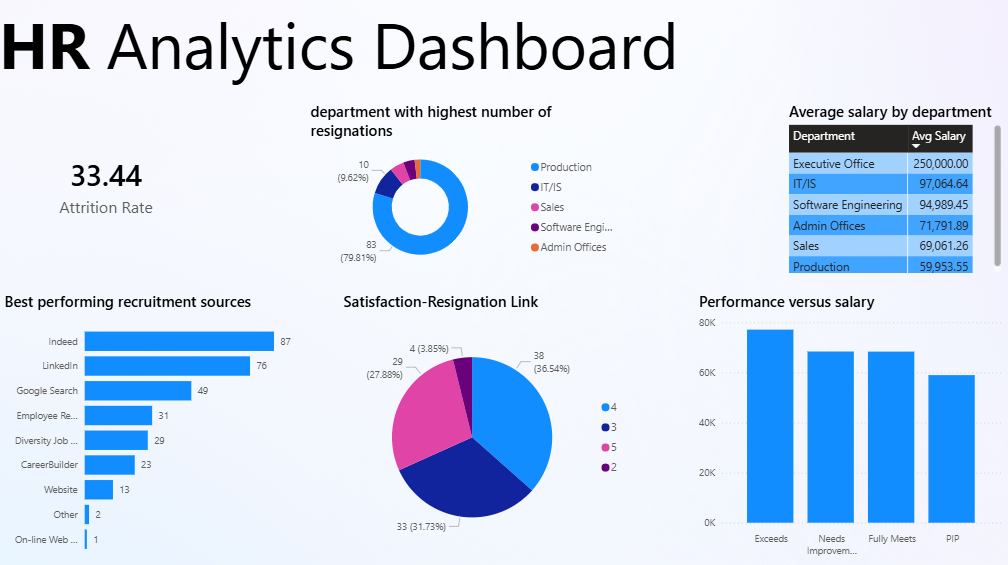

What the dashboard file says about the page in this screenshot:
{"tool":"powerbi","page":{"name":"HR Analytics Dashboard","canvas":[1280,720],"ordinal":4},"visuals":[{"type":"card","fields":{"Values":["HRDataCleaned.Attrition Rate"]},"box":[0,119.1,279.7,236.2],"z":0},{"type":"donutChart","title":"department with highest number of resignations","fields":{"Category":["HRDataCleaned.Department"],"Y":["HRDataCleaned.Terminated Employees"]},"box":[385.5,119.1,419.5,236.2],"z":1},{"type":"pivotTable","title":"Average salary by department","fields":{"Rows":["HRDataCleaned.Department"],"Values":["HRDataCleaned.Avg Salary"]},"box":[988.4,119.1,291,240],"z":2},{"type":"clusteredBarChart","title":"Best performing recruitment sources","fields":{"Category":["HRDataCleaned.RecruitmentSource"],"Y":["CountNonNull(HRDataCleaned.PerformanceScore)"]},"box":[0,359.1,385.5,360.9],"z":3},{"type":"pieChart","title":"Satisfaction-Resignation Link","fields":{"Category":["HRDataCleaned.EmpSatisfaction"],"Y":["HRDataCleaned.Terminated Employees"]},"box":[427.1,359.1,378,360.9],"z":4},{"type":"columnChart","title":"Performance versus salary","fields":{"Y":["HRDataCleaned.Avg Salary"],"Category":["HRDataCleaned.PerformanceScore"]},"box":[875,359.1,404.4,360.9],"z":5},{"type":"textbox","box":[0,0,876.9,119.1],"z":6}]}

Visuals, with their boxes in screenshot pixels (x1, y1, x2, y2), scaled from the page's 1280x720 canvas onto the 1008x565 screenshot:
card - HRDataCleaned.Attrition Rate: box=[0, 93, 220, 279]
"department with highest number of resignations" donutChart: box=[304, 93, 634, 279]
"Average salary by department" pivotTable: box=[778, 93, 1007, 282]
"Best performing recruitment sources" clusteredBarChart: box=[0, 282, 304, 564]
"Satisfaction-Resignation Link" pieChart: box=[336, 282, 634, 564]
"Performance versus salary" columnChart: box=[689, 282, 1007, 564]
textbox: box=[0, 0, 691, 93]
